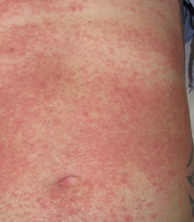SJS-TEN: (0, 23, 188, 222)
